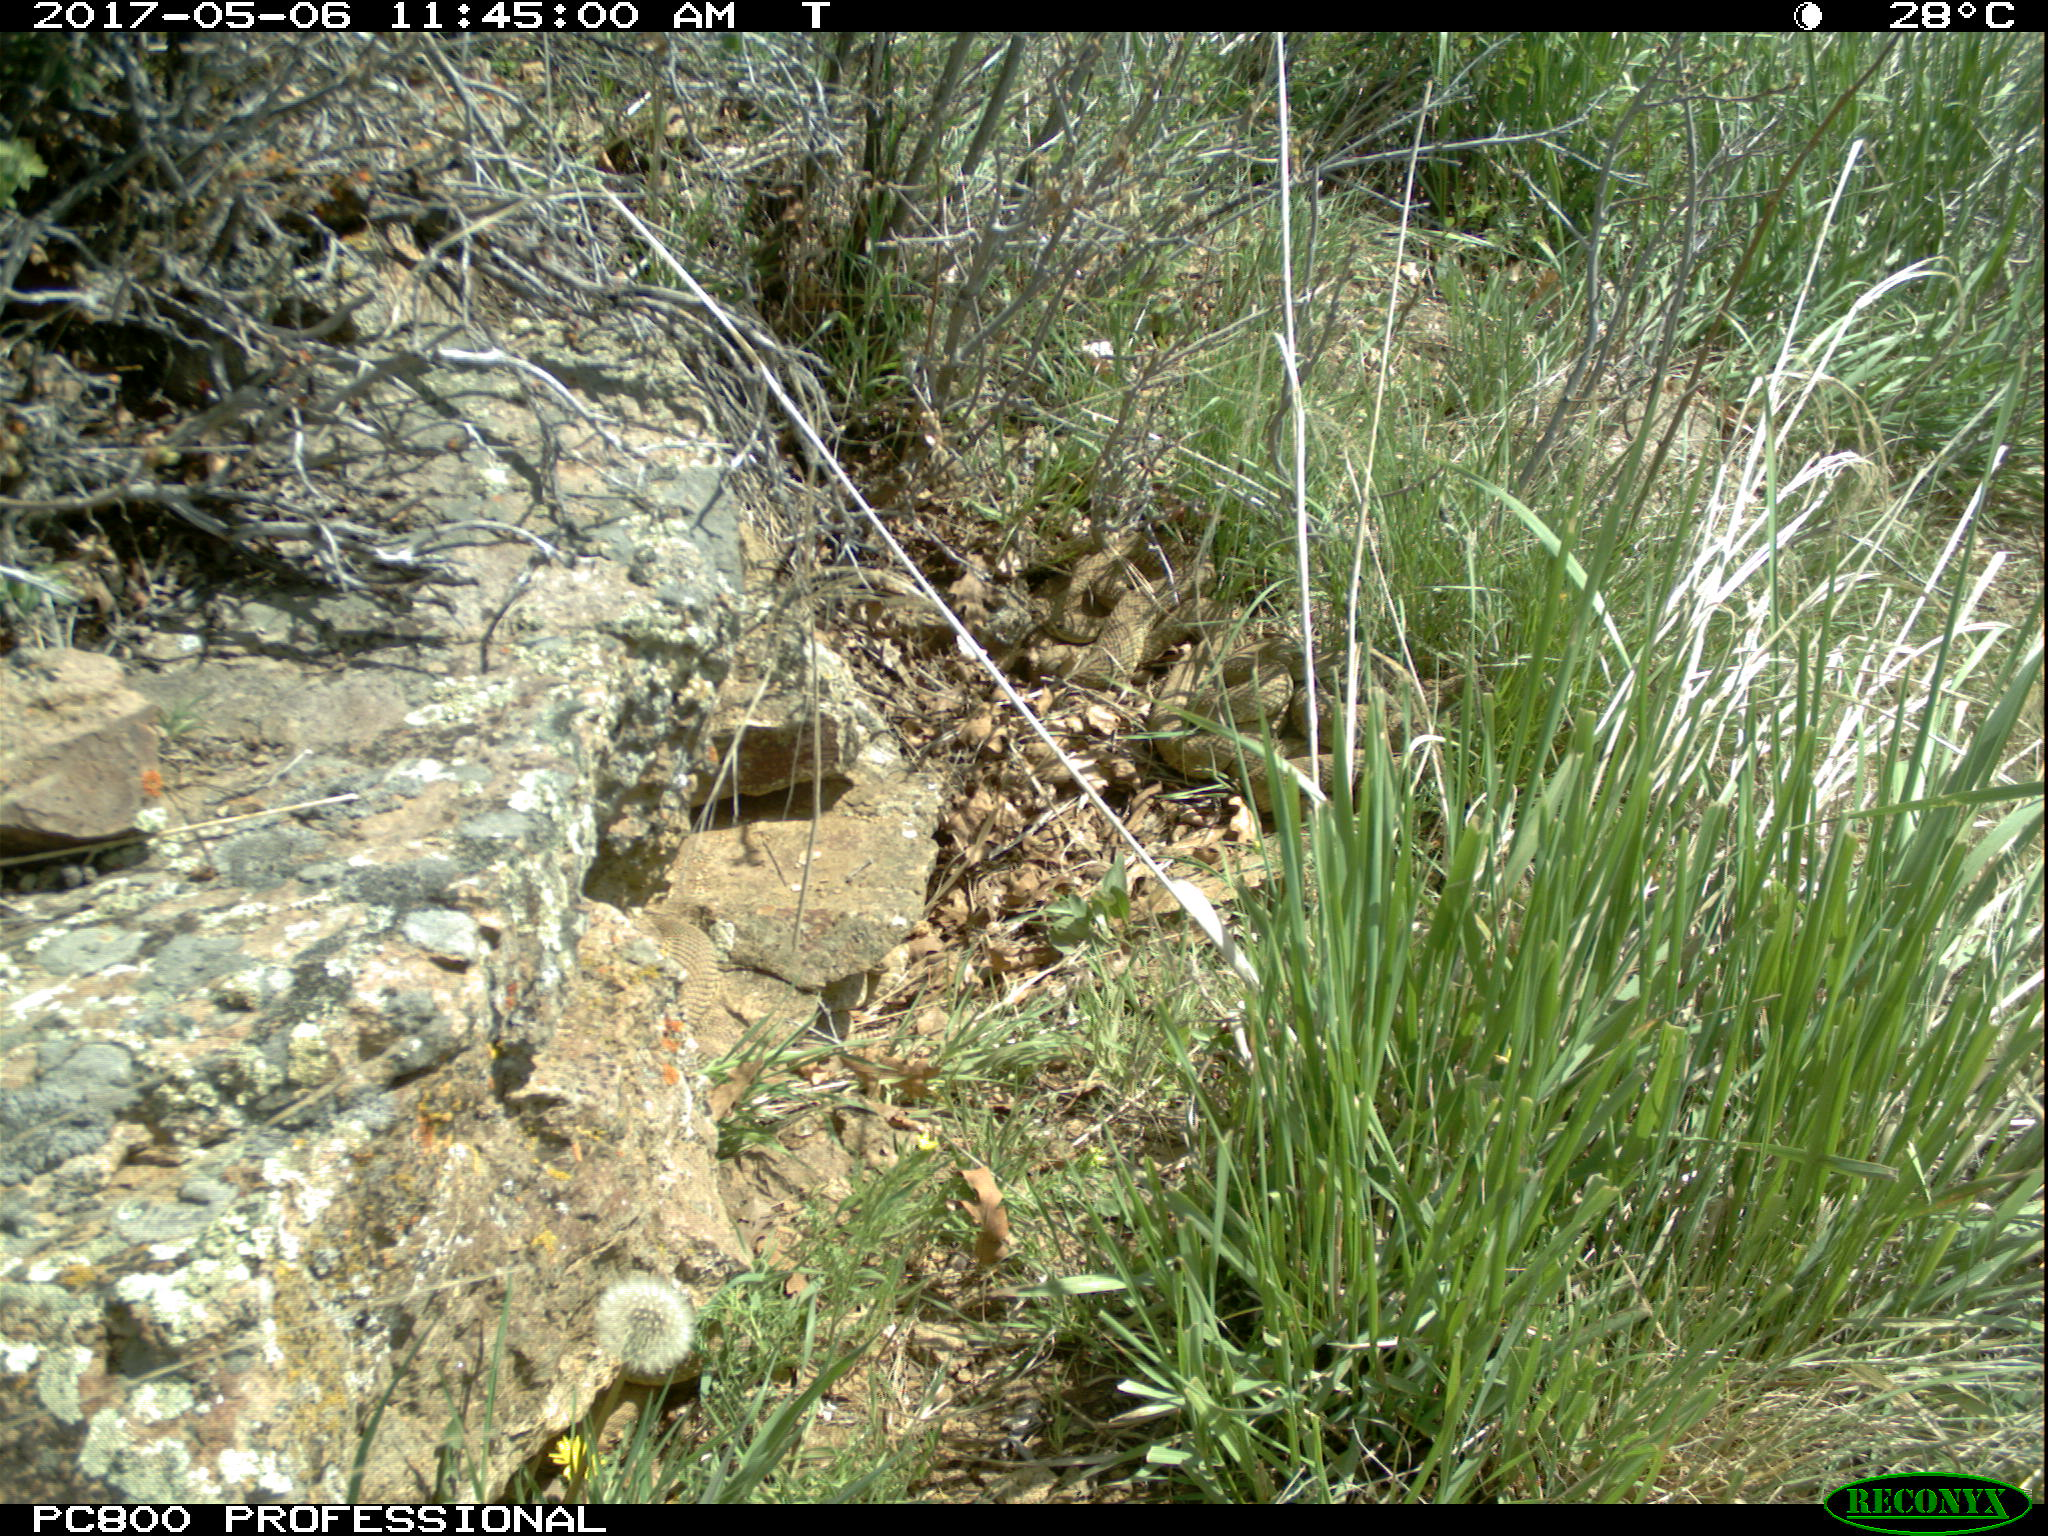snake: (1137, 644, 1409, 792), (1039, 529, 1271, 678), (634, 916, 731, 1013)
